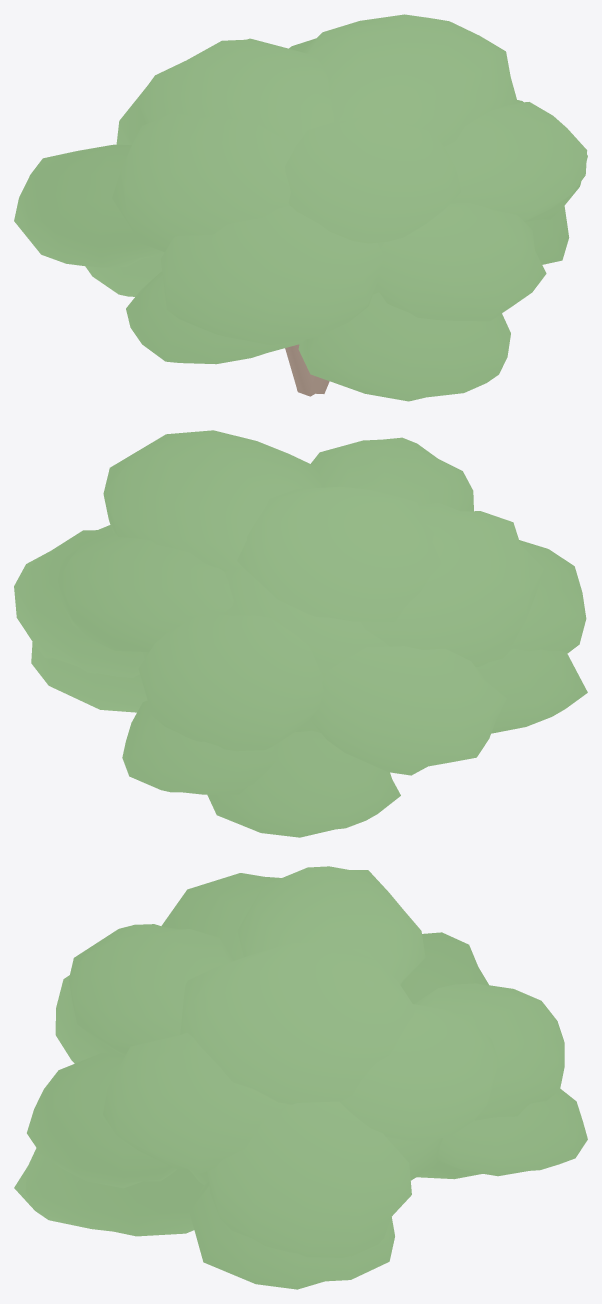
The model's file is Blender_Shrub_1.glb.
3 renders of one model, top to bottom at view 1: azimuth 30°, elevation 25°; view 2: azimuth 150°, elevation 25°; view 3: azimuth 270°, elevation 25°, orthographic. The views are drawn at different scales.
Parts seen in each view (by area): view 1: Blender_Shrub_1; view 2: Blender_Shrub_1; view 3: Blender_Shrub_1.
Part boxes in pixels (x1,y1,x2,y2): Blender_Shrub_1: (14,14,587,401); Blender_Shrub_1: (14,430,587,837); Blender_Shrub_1: (14,866,587,1289).
Bounding box in the file's own units: 2.42 × 1.6 × 2.27.
